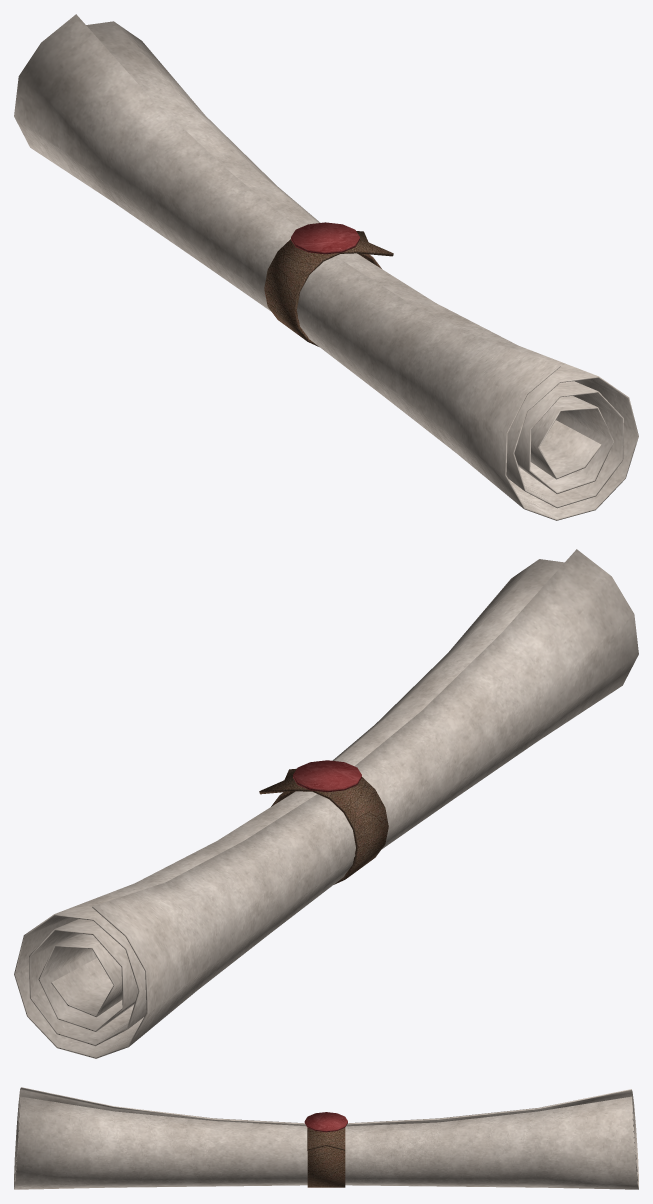
File: scroll.fbx
3 renders of one model, top to bottom at view 1: azimuth 30°, elevation 25°; view 2: azimuth 150°, elevation 25°; view 3: azimuth 270°, elevation 25°, orthographic. The views are drawn at different scales.
Visible parts, largest first — view 1: scroll; view 2: scroll; view 3: scroll.
Part boxes in pixels (left/top/right/bottom): scroll: left=14, top=14, right=638, bottom=520; scroll: left=14, top=549, right=638, bottom=1058; scroll: left=14, top=1087, right=638, bottom=1189.
Size of the model in its own units: 4.75 by 5.09 by 30.36.
